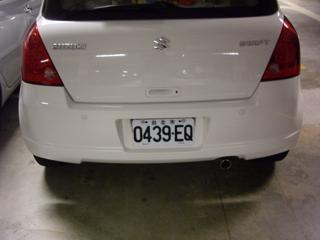plate: (128, 119, 194, 144)
